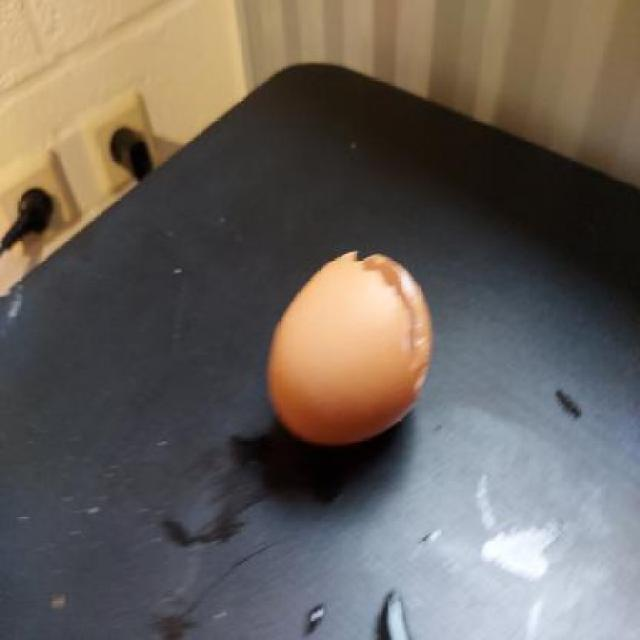biodegradable: (267, 248, 436, 454)
